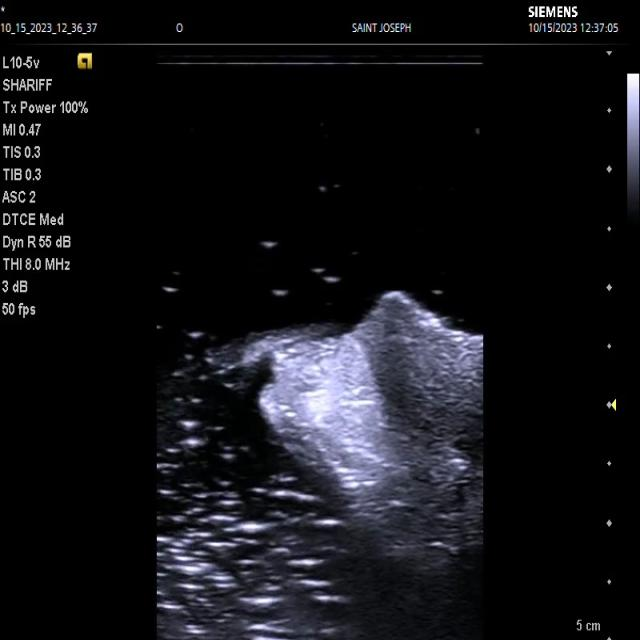tissue: (202, 283, 482, 545), (208, 291, 482, 538)
